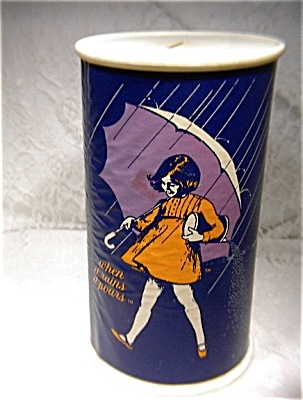grozi_27: (74, 31, 283, 386)
